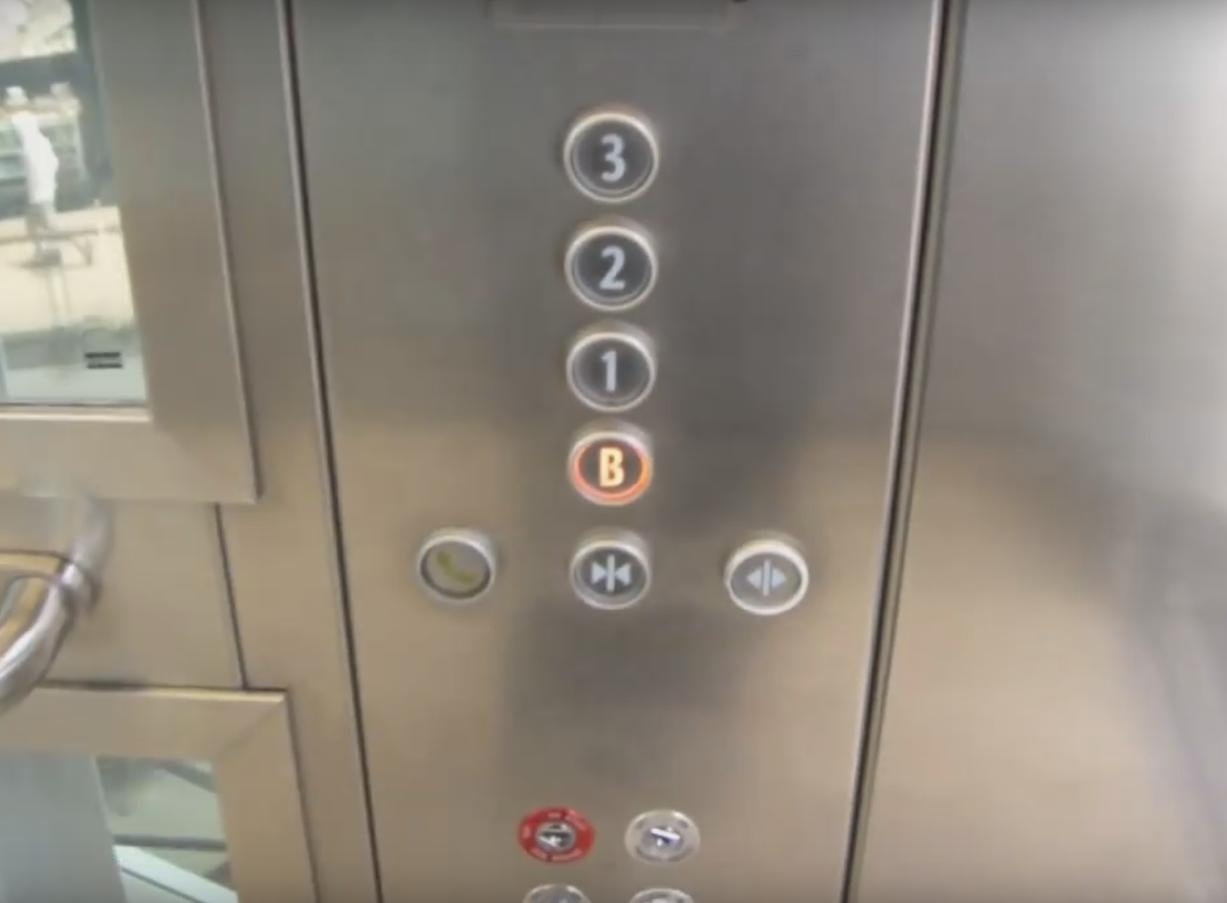1: (558, 320, 665, 419)
2: (558, 216, 664, 317)
3: (557, 103, 664, 209)
B: (558, 418, 665, 517)
call: (411, 524, 502, 613)
close: (566, 529, 657, 618)
keyhole: (621, 803, 706, 872), (514, 799, 599, 868)
open: (721, 534, 812, 623)
